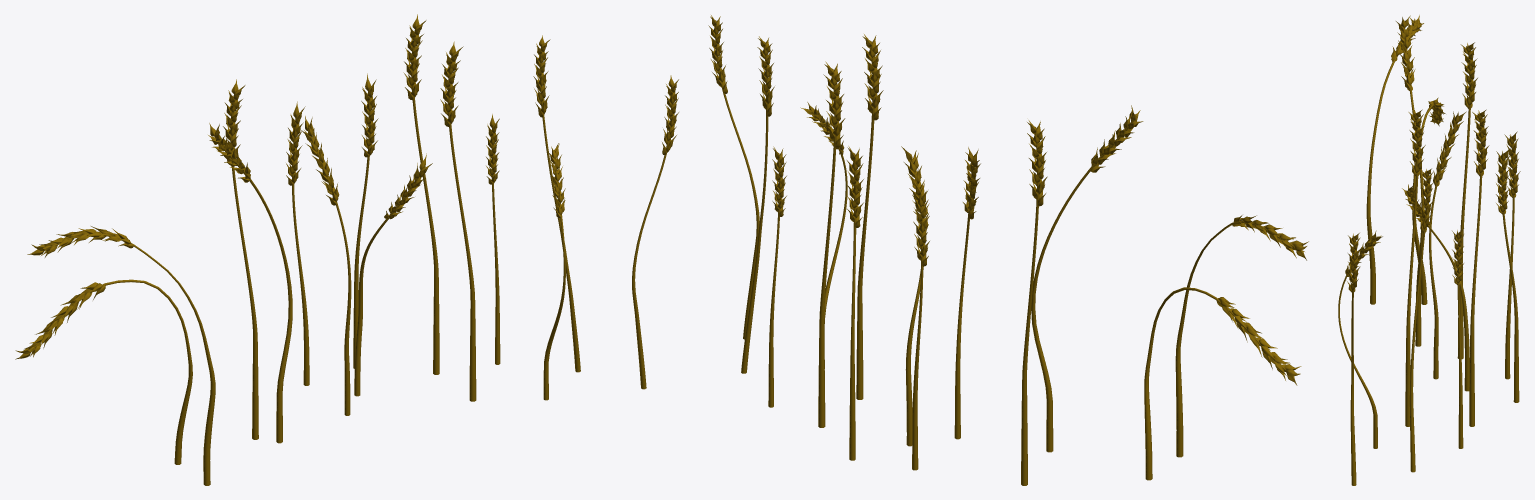
Rendered from wheet.obj.
3 views of the same model, side by side, from view 1: azimuth 30°, elevation 25°; view 2: azimuth 150°, elevation 25°; view 3: azimuth 270°, elevation 25° (orthographic). The views are drawn at different scales.
Visible parts, largest first — view 1: Wheet.017, Wheet.008, Wheet.013, Wheet.004, Wheet.016, Wheet.007, Wheet.015, Wheet.006, Wheet.011, Wheet.002, Wheet.005, Wheet.014 (+2 smaller); view 2: Wheet.008, Wheet.004, Wheet.013, Wheet.007, Wheet.016, Wheet.017, Wheet.005, Wheet.002, Wheet.006, Wheet.015, Wheet.011, Wheet.014 (+2 smaller); view 3: Wheet.004, Wheet.013, Wheet.015, Wheet.007, Wheet.002, Wheet.016, Wheet.005, Wheet.017, Wheet.006, Wheet.011, Wheet.003, Wheet.014 (+2 smaller).
Part boxes in pixels (x1,y1,x2,y2): Wheet.017: (27, 226, 215, 485); Wheet.008: (15, 279, 192, 464); Wheet.013: (440, 41, 476, 401); Wheet.004: (403, 14, 439, 374); Wheet.016: (208, 123, 292, 443); Wheet.007: (223, 79, 258, 439); Wheet.015: (301, 116, 351, 415); Wheet.006: (286, 101, 309, 385); Wheet.011: (632, 75, 678, 389); Wheet.002: (533, 35, 580, 372); Wheet.005: (353, 73, 378, 368); Wheet.014: (354, 153, 432, 396); Wheet.008: (1144, 287, 1301, 480); Wheet.004: (818, 61, 845, 427); Wheet.013: (856, 34, 883, 399); Wheet.007: (1021, 120, 1047, 485); Wheet.016: (1031, 105, 1143, 452); Wheet.017: (1175, 215, 1308, 457); Wheet.005: (847, 146, 863, 460); Wheet.002: (741, 36, 774, 373); Wheet.006: (912, 180, 929, 470); Wheet.015: (954, 147, 980, 439); Wheet.011: (708, 15, 759, 339); Wheet.014: (901, 146, 929, 446); Wheet.004: (1469, 109, 1489, 426); Wheet.013: (1405, 109, 1425, 426); Wheet.015: (1429, 111, 1466, 379); Wheet.007: (1457, 42, 1477, 359); Wheet.002: (1409, 168, 1433, 472); Wheet.016: (1396, 15, 1424, 346); Wheet.005: (1495, 148, 1519, 402); Wheet.017: (1366, 15, 1423, 304); Wheet.006: (1504, 131, 1520, 379); Wheet.011: (1347, 233, 1360, 485); Wheet.003: (1452, 228, 1463, 448); Wheet.014: (1402, 184, 1469, 391).
Bounding box in the file's own units: 2.03 × 1.17 × 0.5965.
